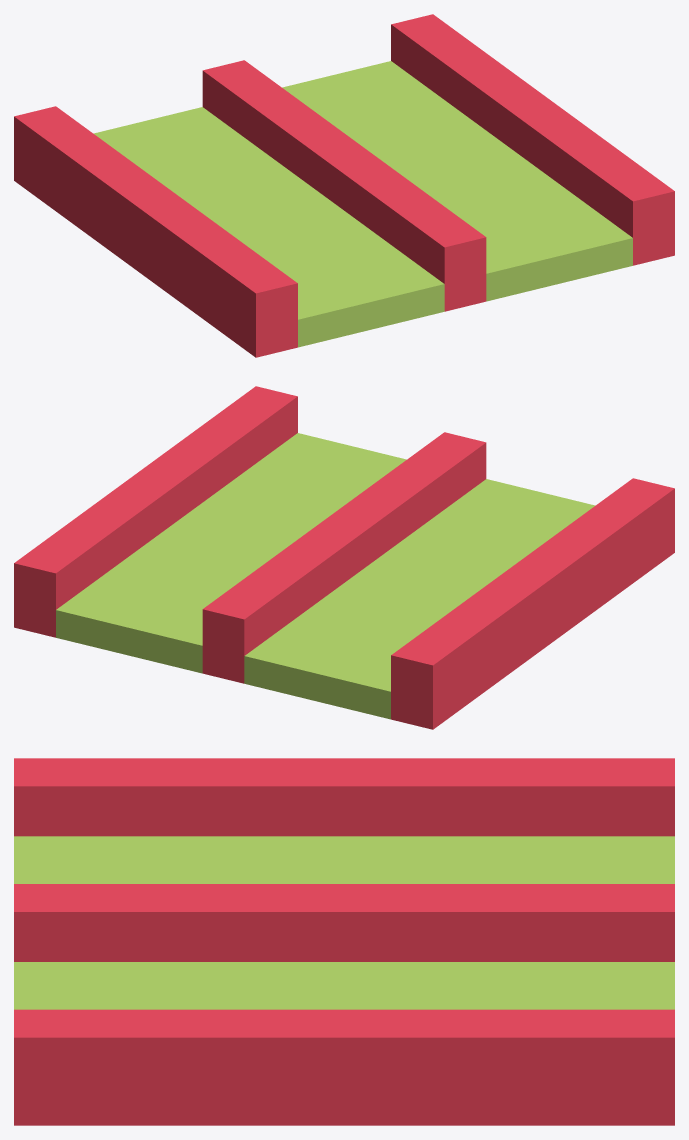
File: split.fbx
3 views of the same model, one above another, from view 1: azimuth 30°, elevation 25°; view 2: azimuth 150°, elevation 25°; view 3: azimuth 270°, elevation 25° (orthographic). The views are drawn at different scales.
Visible parts, largest first — view 1: split; view 2: split; view 3: split.
Boxes of the visible parts, x1,y1,x2,y2 form: split: [14, 14, 674, 357]; split: [14, 386, 674, 729]; split: [14, 758, 674, 1125].
Size of the model in its own units: 10 by 1.47 by 10.
